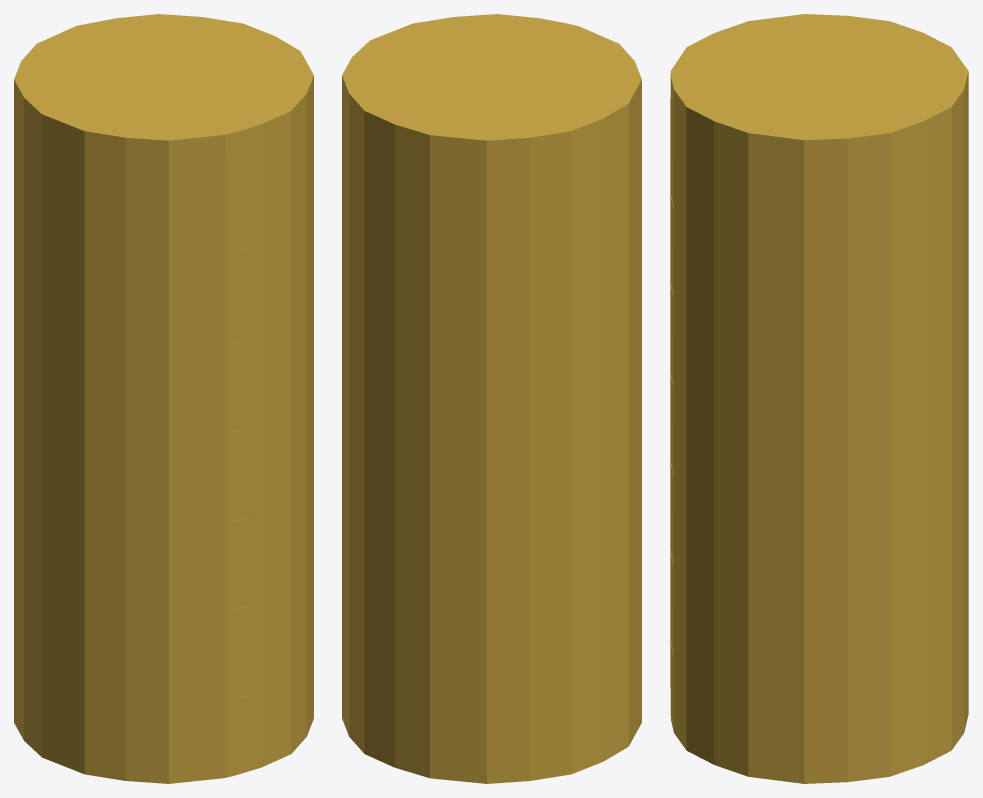
The model's file is yellow_cylinder_010_024_regular.dae.
The picture shows the model from 3 angles, left to right: view 1: azimuth 30°, elevation 25°; view 2: azimuth 150°, elevation 25°; view 3: azimuth 270°, elevation 25°; orthographic projection.
Parts seen in each view (by area): view 1: Cylinder; view 2: Cylinder; view 3: Cylinder.
Boxes of the visible parts, bbox=[...] form: Cylinder: bbox=[14, 14, 313, 783]; Cylinder: bbox=[342, 14, 641, 783]; Cylinder: bbox=[670, 14, 968, 783].
Bounding box in the file's own units: 0.101 × 0.1007 × 0.24.
